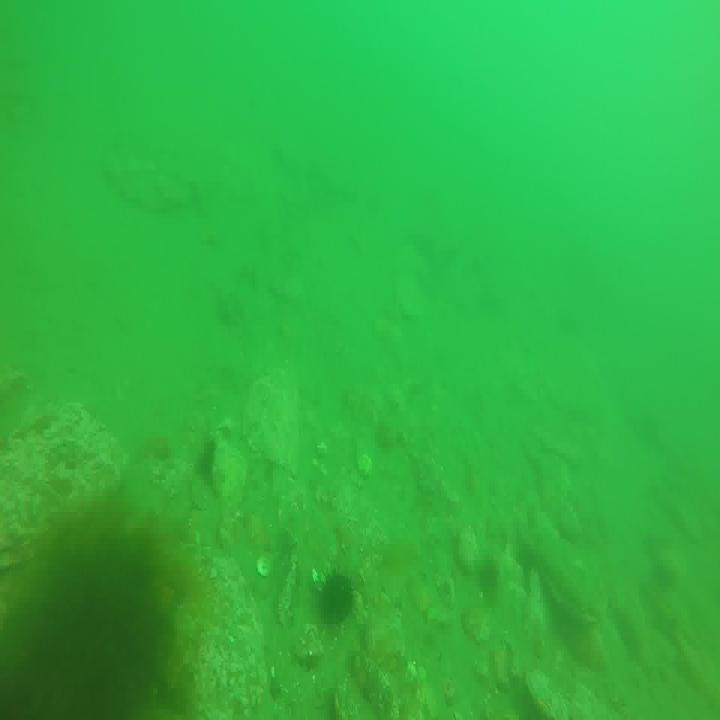echinus: (318, 569, 356, 629), (477, 556, 503, 598)
